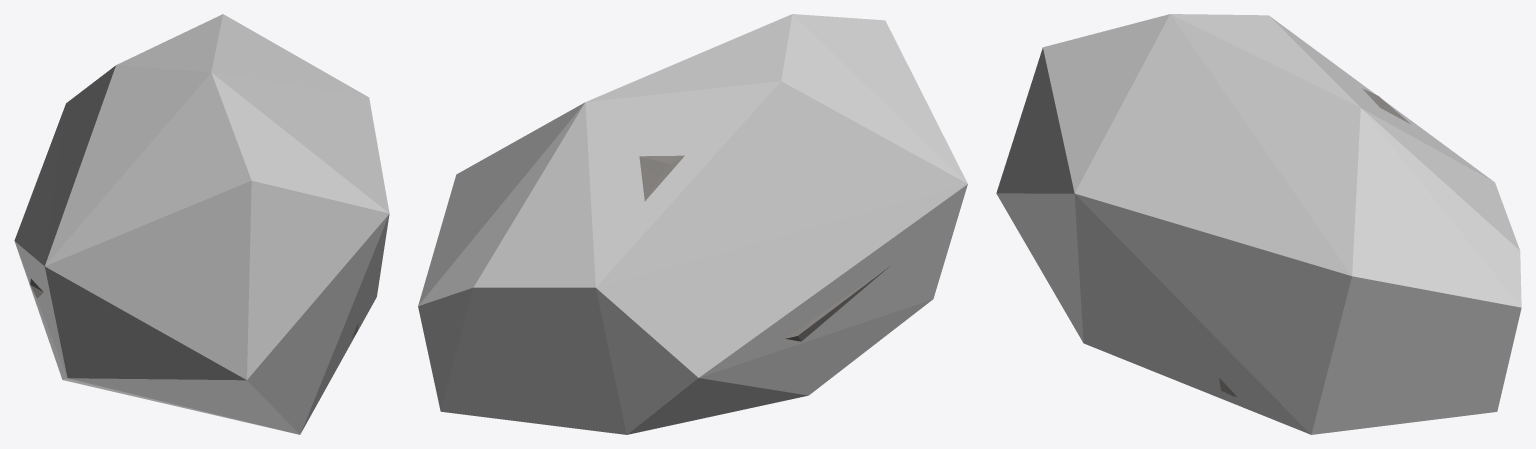
Rendered from SM_Rock_03.fbx.
3 views of the same model, side by side, from view 1: azimuth 30°, elevation 25°; view 2: azimuth 150°, elevation 25°; view 3: azimuth 270°, elevation 25° (orthographic). The views are drawn at different scales.
Visible parts, largest first — view 1: SM_Rock_03_ConvexHulls; view 2: SM_Rock_03_ConvexHulls, SM_Rock_03; view 3: SM_Rock_03_ConvexHulls.
Part boxes in pixels (x1=…): SM_Rock_03_ConvexHulls: x1=14, y1=14, x2=389, y2=434; SM_Rock_03_ConvexHulls: x1=418, y1=14, x2=967, y2=434; SM_Rock_03: x1=639, y1=155, x2=889, y2=341; SM_Rock_03_ConvexHulls: x1=996, y1=14, x2=1521, y2=434.
Size of the model in its own units: 54.4 by 62.2 by 40.8.
